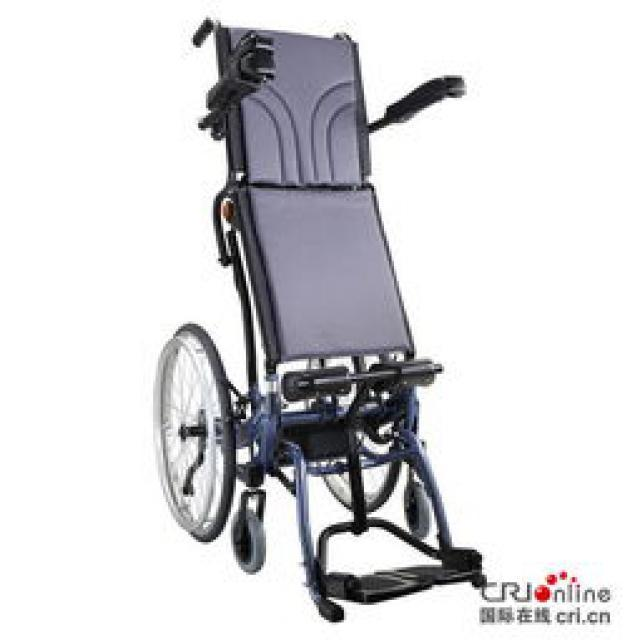wheelchair: (90, 12, 492, 620)
